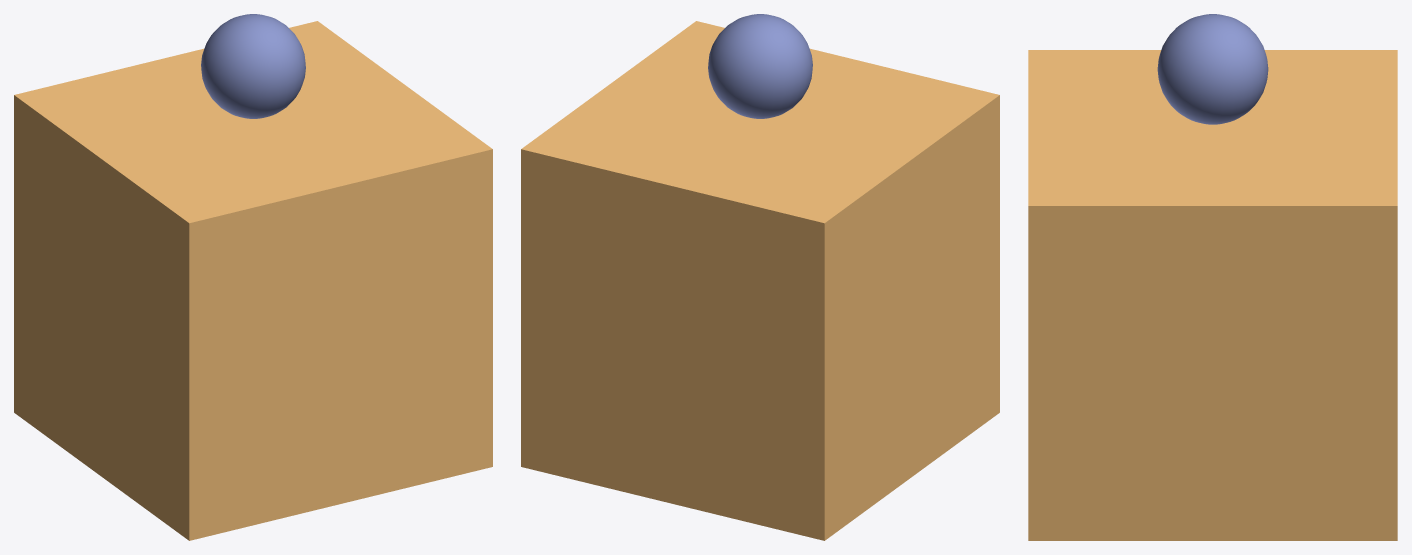
Rendered from crate.glb.
The picture shows the model from 3 angles, left to right: view 1: azimuth 30°, elevation 25°; view 2: azimuth 150°, elevation 25°; view 3: azimuth 270°, elevation 25°; orthographic projection. The views are drawn at different scales.
Parts seen in each view (by area): view 1: body, knob; view 2: body, knob; view 3: body, knob.
Part boxes in pixels (left/top/right/bottom): body: left=14, top=21, right=492, bottom=540; knob: left=201, top=14, right=305, bottom=118; body: left=521, top=21, right=999, bottom=540; knob: left=708, top=14, right=812, bottom=118; body: left=1028, top=50, right=1397, bottom=540; knob: left=1157, top=14, right=1268, bottom=124.
Size of the model in its own units: 2 by 2.65 by 2.
